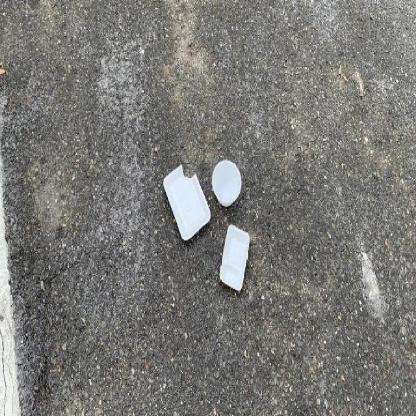Glass Cup: (163, 164, 211, 240), (162, 164, 210, 240), (218, 223, 251, 292), (220, 224, 250, 290), (212, 156, 242, 208), (212, 159, 242, 206)
